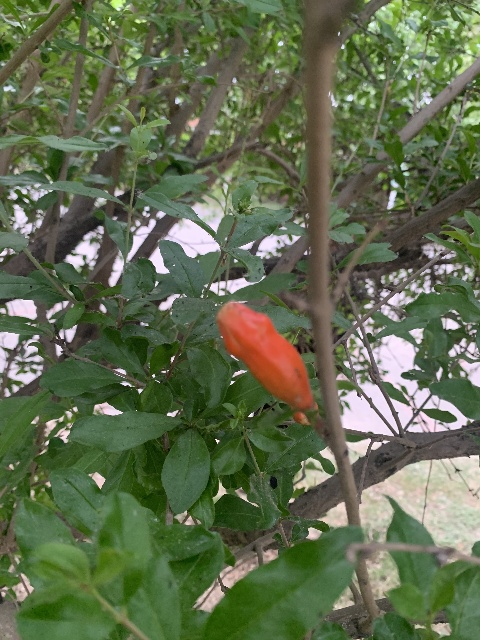bud: (215, 301, 315, 410), (292, 411, 308, 424)
